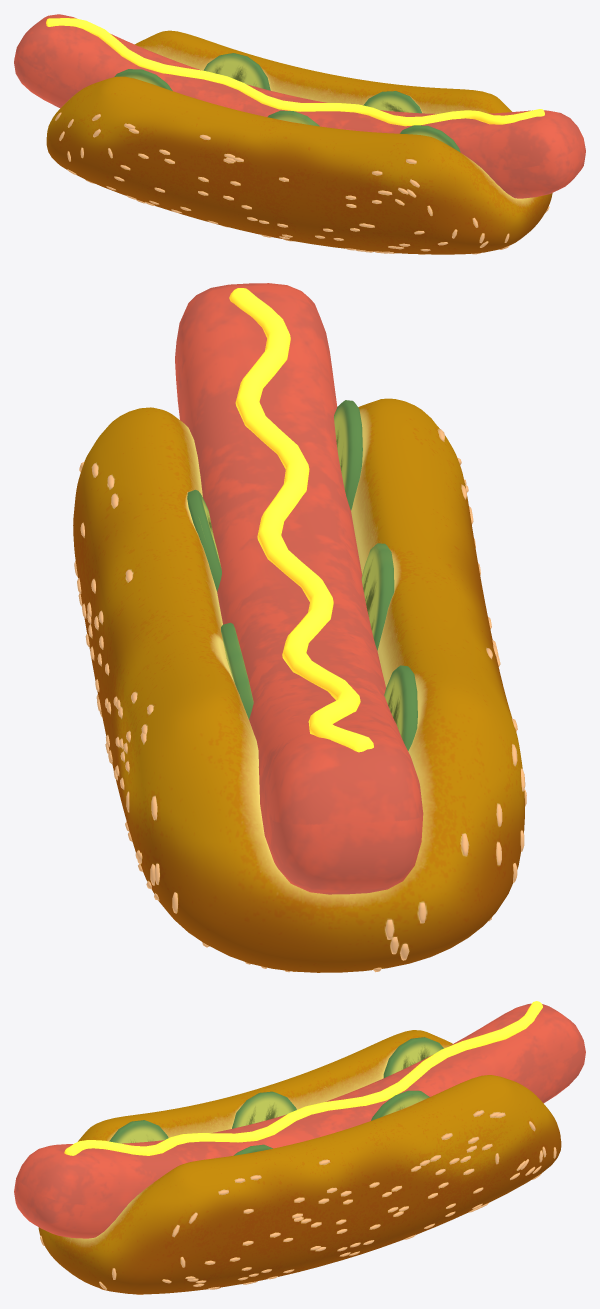
File: hotdog.glb
3 views of the same model, one above another, from view 1: azimuth 30°, elevation 25°; view 2: azimuth 150°, elevation 25°; view 3: azimuth 270°, elevation 25° (orthographic). The views are drawn at different scales.
Parts seen in each view (by area): view 1: Object_3, Object_5, Object_6, Object_4, Object_2; view 2: Object_3, Object_5, Object_6, Object_4, Object_2; view 3: Object_3, Object_5, Object_6, Object_4, Object_2.
Part boxes in pixels (x1,y1,x2,y2): Object_3: [46, 30, 552, 254]; Object_5: [14, 14, 585, 198]; Object_6: [46, 18, 544, 126]; Object_4: [114, 53, 460, 152]; Object_2: [48, 112, 549, 254]; Object_3: [73, 398, 524, 972]; Object_5: [175, 283, 423, 894]; Object_6: [229, 288, 373, 752]; Object_4: [187, 400, 417, 750]; Object_2: [74, 429, 526, 972]; Object_3: [38, 1030, 561, 1294]; Object_5: [14, 1003, 585, 1238]; Object_6: [64, 1001, 542, 1155]; Object_4: [109, 1037, 443, 1155]; Object_2: [40, 1110, 556, 1294].
Size of the model in its own units: 0.6602 by 0.2962 by 0.8741.
Materials: 5 (5 with a texture image).
